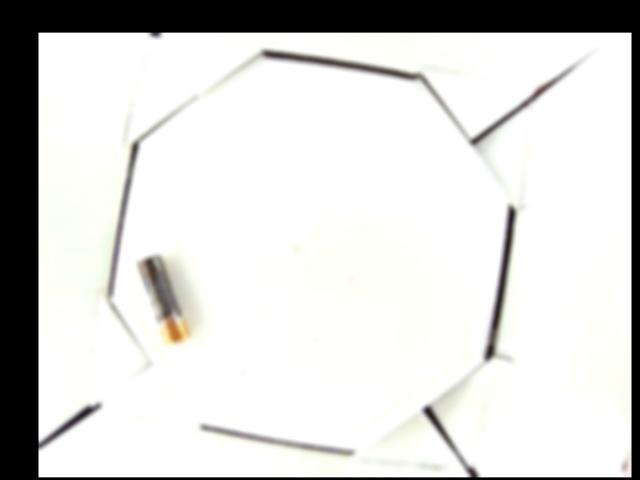Battery: (133, 255, 191, 347)
